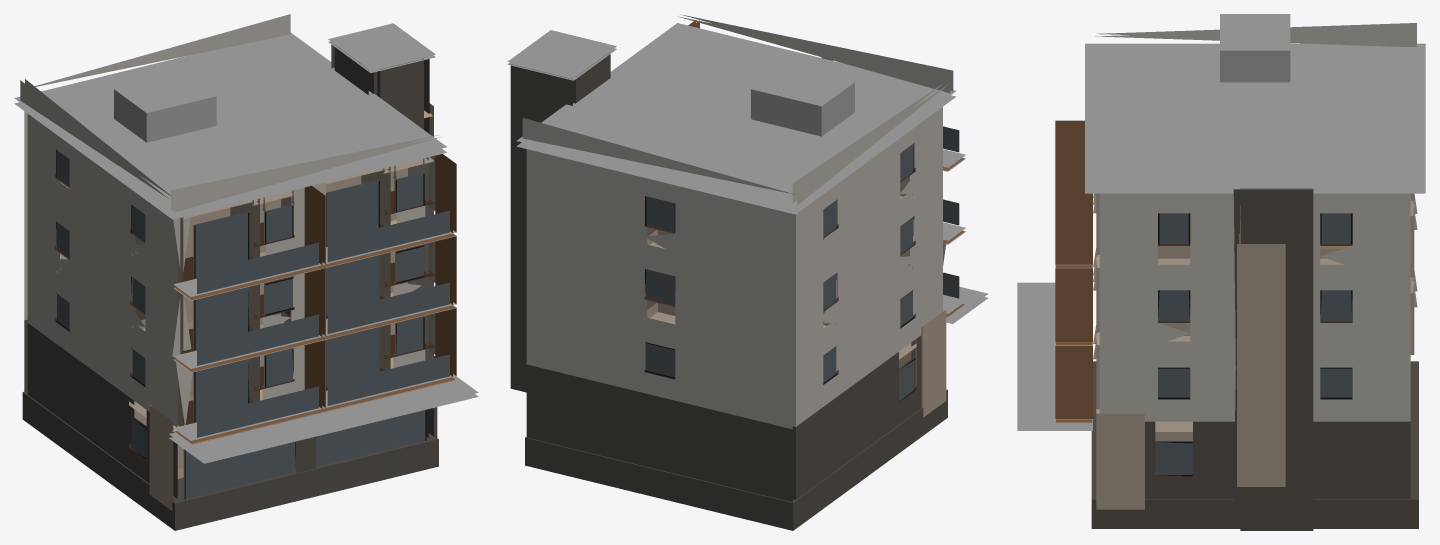
File: apartment_12x12_4_far.glb
3 views of the same model, side by side, from view 1: azimuth 30°, elevation 25°; view 2: azimuth 150°, elevation 25°; view 3: azimuth 270°, elevation 25° (orthographic). The views are drawn at different scales.
Visible parts, largest first — view 1: apartment_12x12_4; view 2: apartment_12x12_4; view 3: apartment_12x12_4.
Boxes of the visible parts, left/top/right/bottom form: apartment_12x12_4: left=14, top=14, right=478, bottom=530; apartment_12x12_4: left=507, top=14, right=988, bottom=530; apartment_12x12_4: left=1017, top=14, right=1425, bottom=530.
Bounding box in the file's own units: 15.22 × 16.05 × 15.1.
